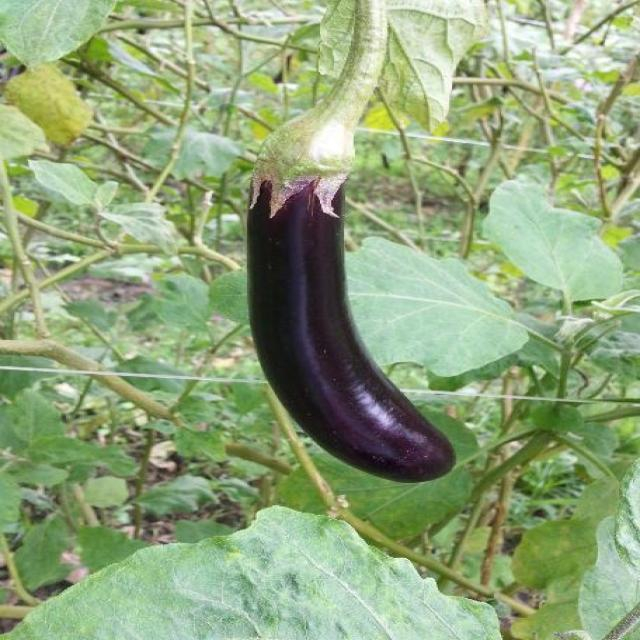Eggplant: (245, 95, 458, 487)
